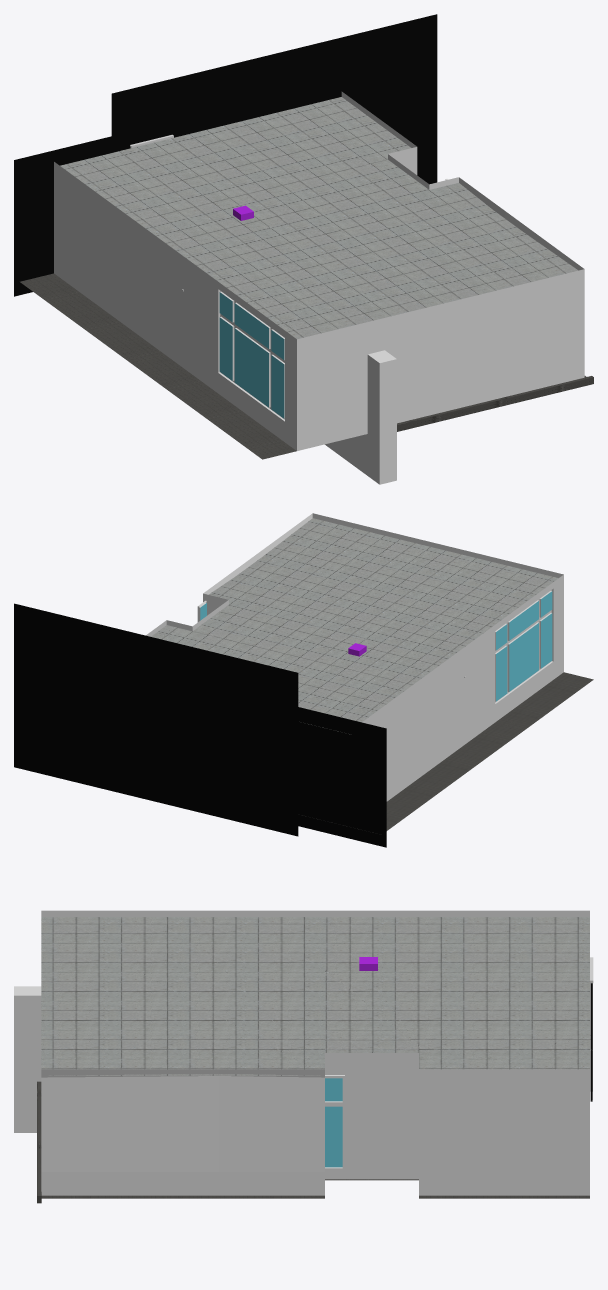
Rendered from Labo_para_mapear1 (2).fbx.
3 renders of one model, top to bottom at view 1: azimuth 30°, elevation 25°; view 2: azimuth 150°, elevation 25°; view 3: azimuth 270°, elevation 25°, orthographic. The views are drawn at different scales.
Parts seen in each view (by area): view 1: Piso.029, Piso.027, Piso.138, Piso.002, Piso.135, Piso.001, Piso.162, Piso.136; view 2: Piso.138, Piso.029, Piso.027, Piso.135, Piso.002, Piso.001; view 3: Piso.029, Piso.027, Piso.162, Piso.002, Piso.003, Piso.136.
Part boxes in pixels (x1,y1,x2,y2): Piso.029: (60,97,578,339); Piso.027: (54,91,584,450); Piso.138: (111,14,437,184); Piso.002: (20,273,586,459); Piso.135: (14,134,120,296); Piso.001: (218,289,284,419); Piso.162: (325,350,396,484); Piso.136: (397,376,593,431); Piso.138: (14,603,298,836); Piso.029: (151,518,558,734); Piso.027: (146,513,563,801); Piso.135: (298,707,386,847); Piso.002: (302,672,593,832); Piso.001: (495,590,552,702); Piso.029: (41,917,589,1075); Piso.027: (41,910,589,1195); Piso.162: (14,986,41,1132); Piso.002: (41,1179,589,1198); Piso.003: (325,1075,344,1170); Piso.136: (37,1081,41,1203).
Bounding box in the file's own units: 2372 × 1098 × 2482.
